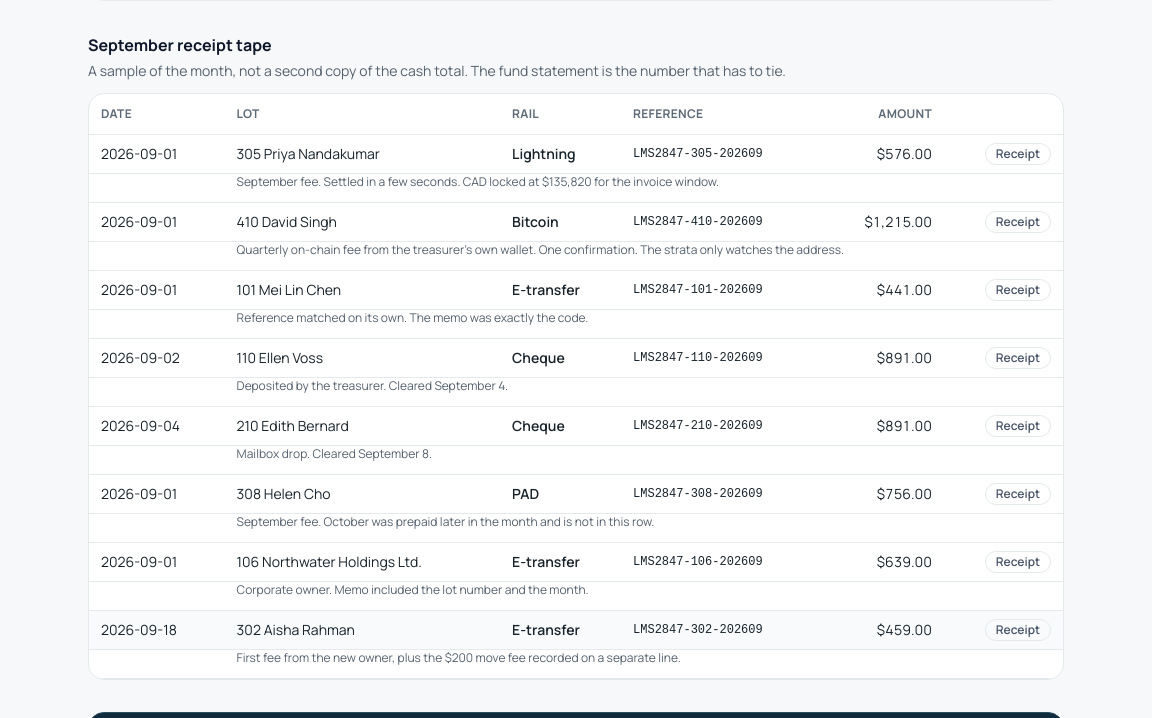
Test: /pay (the pay sheet and its receipt) › puts the row a reader picks on the sheet
(page scrolled)
What coordinates should you click on to do the following:
click the button "Receipt" in the row of "2026-09-02"
I would click on:
 (1018, 358)
Its box is [985,347,1051,369].
(page scrolled)
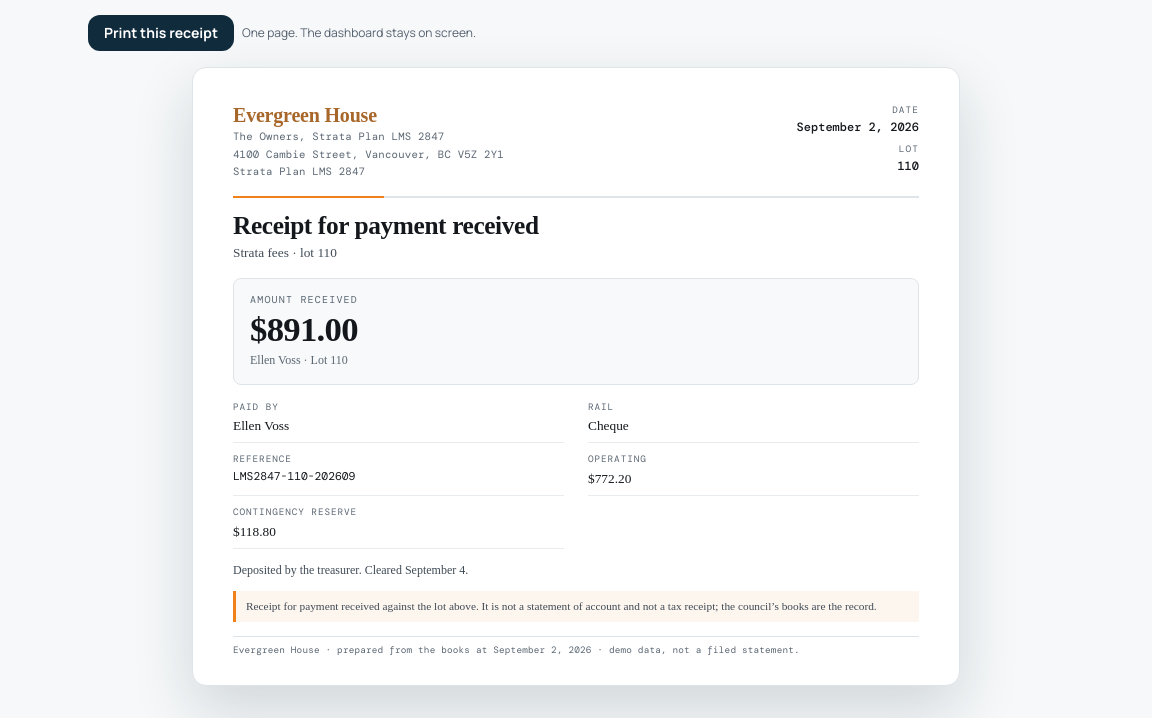
Now the element that starts with "Evergreen House" shows "Ellen Voss", box [233,418,289,433]
Now the element that starts with "Evergreen House" shows "Cheque", box [588,418,629,433]
